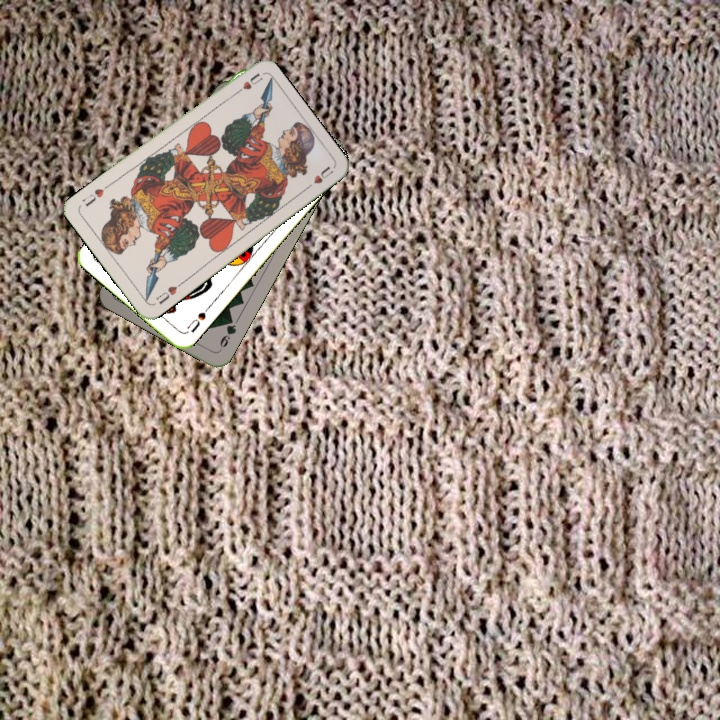G9: (215, 313, 239, 354)
HU: (229, 69, 265, 99), (152, 278, 185, 307)
SU: (183, 302, 213, 335)
